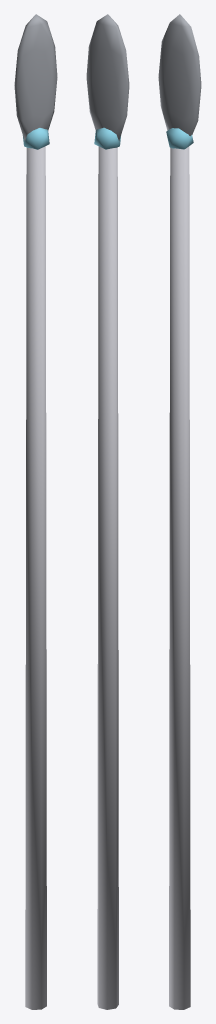
File: north_pole.glb
The picture shows the model from 3 angles, left to right: view 1: azimuth 30°, elevation 25°; view 2: azimuth 150°, elevation 25°; view 3: azimuth 330°, elevation 25°; orthographic projection.
Parts seen in each view (by area): view 1: north_pole_v0; view 2: north_pole_v0; view 3: north_pole_v0.
Part boxes in pixels (<box>): north_pole_v0: <box>14,14,57,1009</box>; north_pole_v0: <box>86,14,129,1009</box>; north_pole_v0: <box>158,14,201,1009</box>.
Bounding box in the file's own units: 0.0761 × 1.77 × 0.0425.
